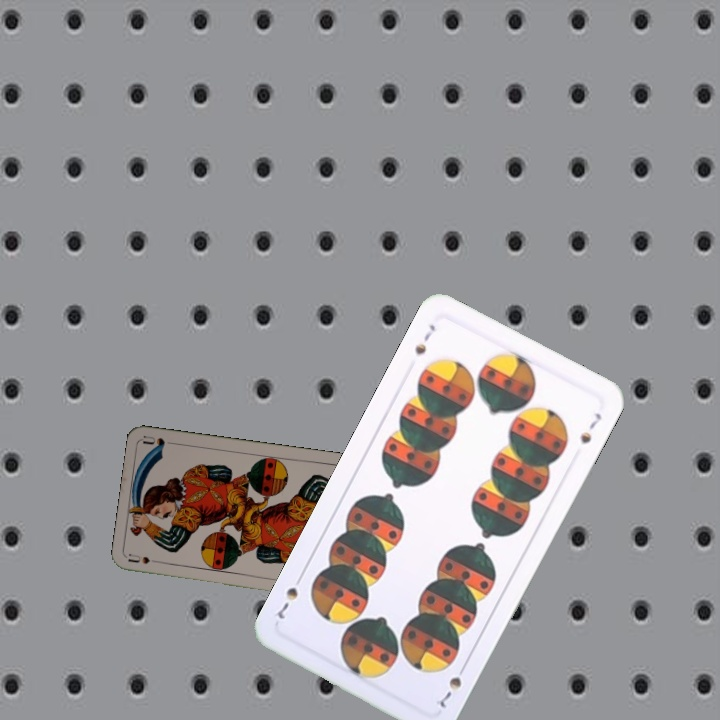S7: (433, 659, 470, 711), (411, 320, 438, 358)
SU: (125, 549, 166, 566)
